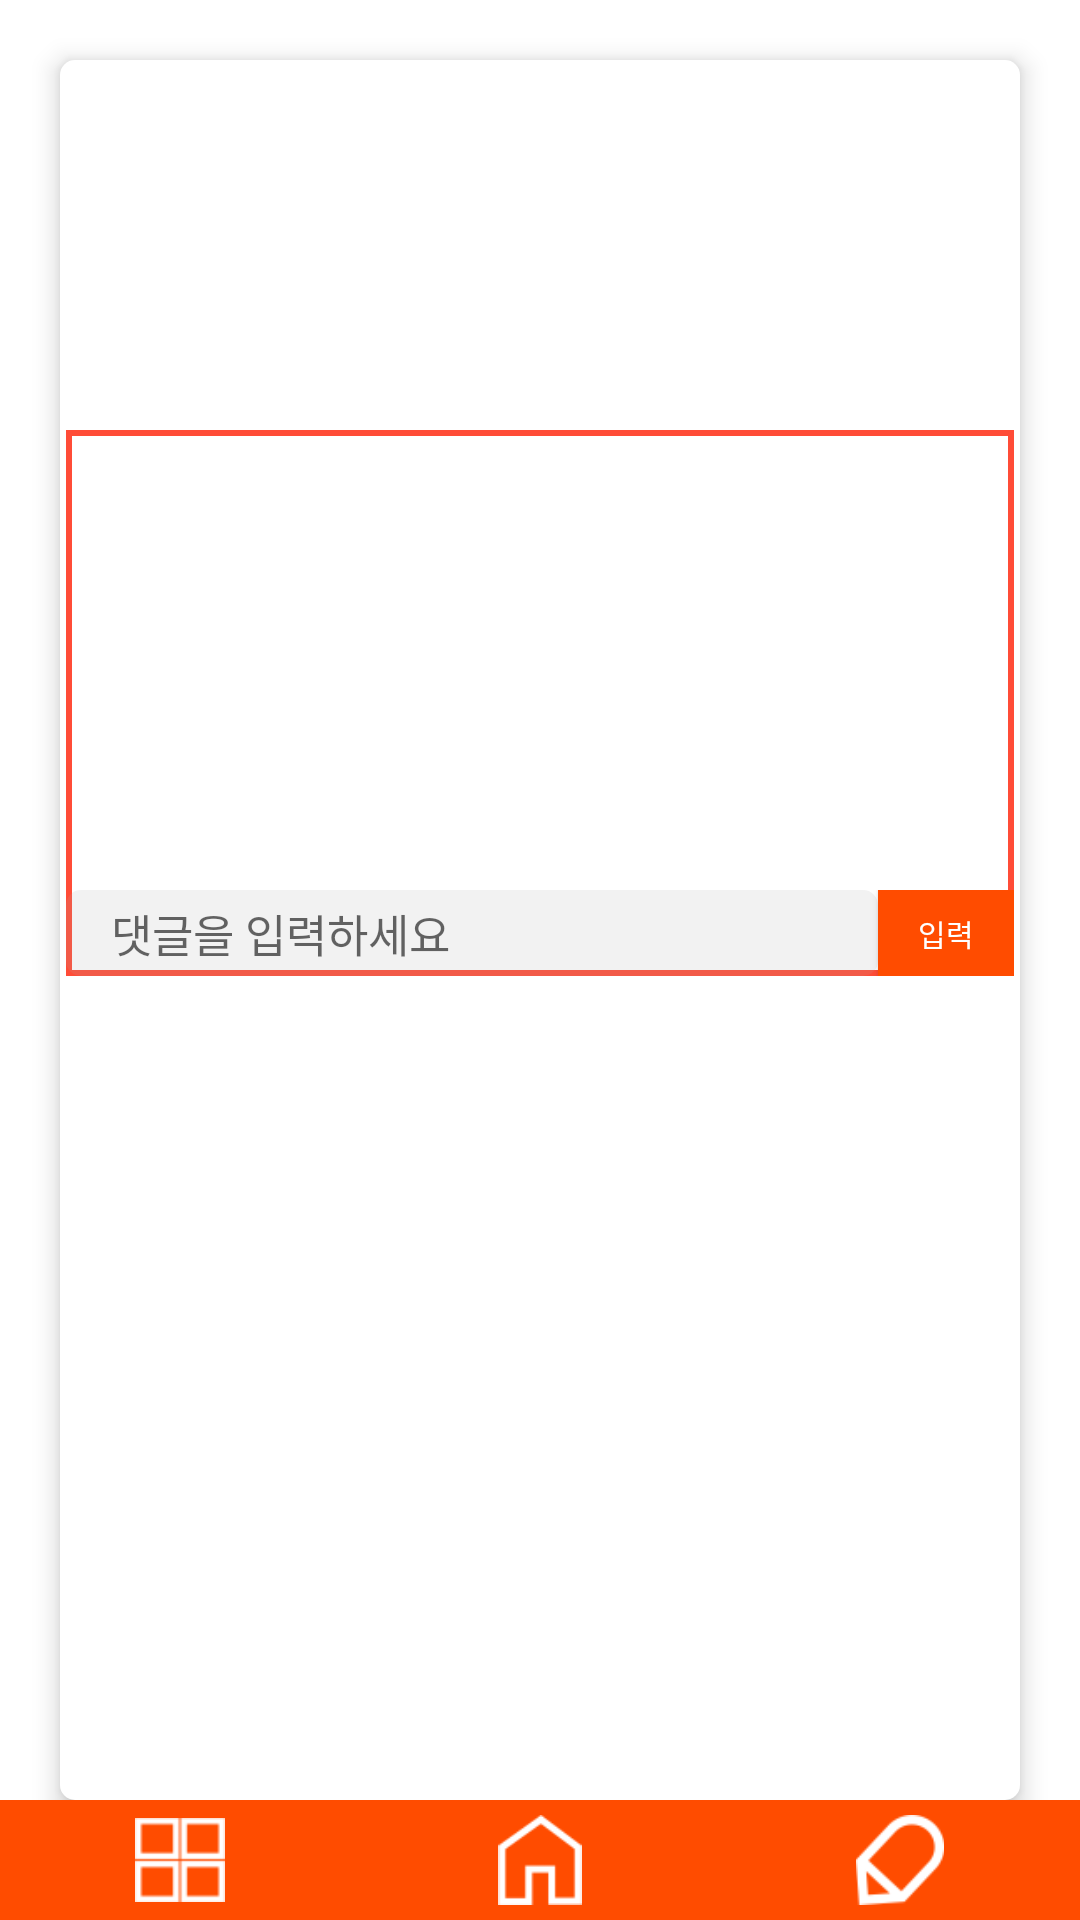

Icons on this 1080px×1920px Android screen, each with its box as (x1=x1, y1=y1, x2=x2, y2=y2):
fe board: (x1=135, y1=1818, x2=225, y2=1902)
fe home: (x1=498, y1=1815, x2=582, y2=1905)
fe pencil: (x1=856, y1=1815, x2=944, y2=1905)
